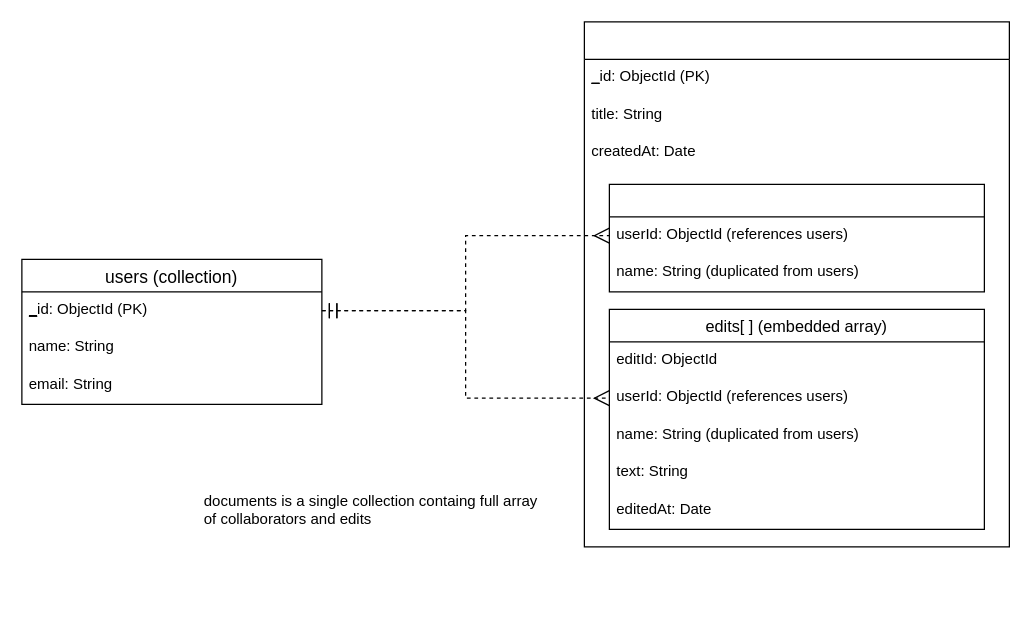
Some shapes in this 1031 by 619 pixel diagram are drawn without their labels. The box of each missing label's shape, as (x1, y1, x2, y2) in pixels:
collaborators[ ] (embedded array): (608, 183, 984, 292)
documents (collection): (583, 21, 1009, 547)
